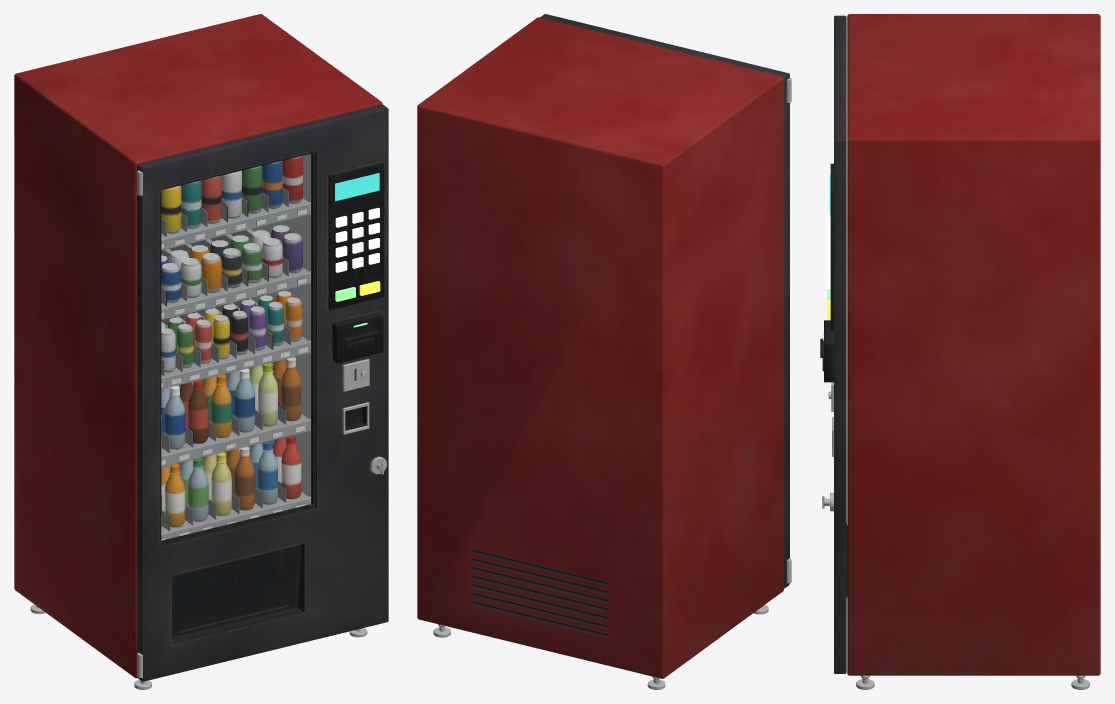
Rendered from g3-vending-machine.glb.
The picture shows the model from 3 angles, left to right: view 1: azimuth 30°, elevation 25°; view 2: azimuth 150°, elevation 25°; view 3: azimuth 270°, elevation 25°; orthographic projection. The views are drawn at different scales.
Parts seen in each view (by area): view 1: vending-machine_body, vending-machine_goods, vending-machine_keypad_lamp, vending-machine_menu_display; view 2: vending-machine_body; view 3: vending-machine_body.
Boxes of the visible parts, bbox=[...] form: vending-machine_body: bbox=[14, 14, 388, 689]; vending-machine_goods: bbox=[161, 155, 310, 540]; vending-machine_keypad_lamp: bbox=[335, 207, 379, 272]; vending-machine_menu_display: bbox=[335, 173, 379, 201]; vending-machine_body: bbox=[417, 14, 791, 689]; vending-machine_body: bbox=[820, 14, 1100, 689].
Size of the model in its own units: 0.907 by 1.85 by 0.846.
8 materials, 2 textured.
